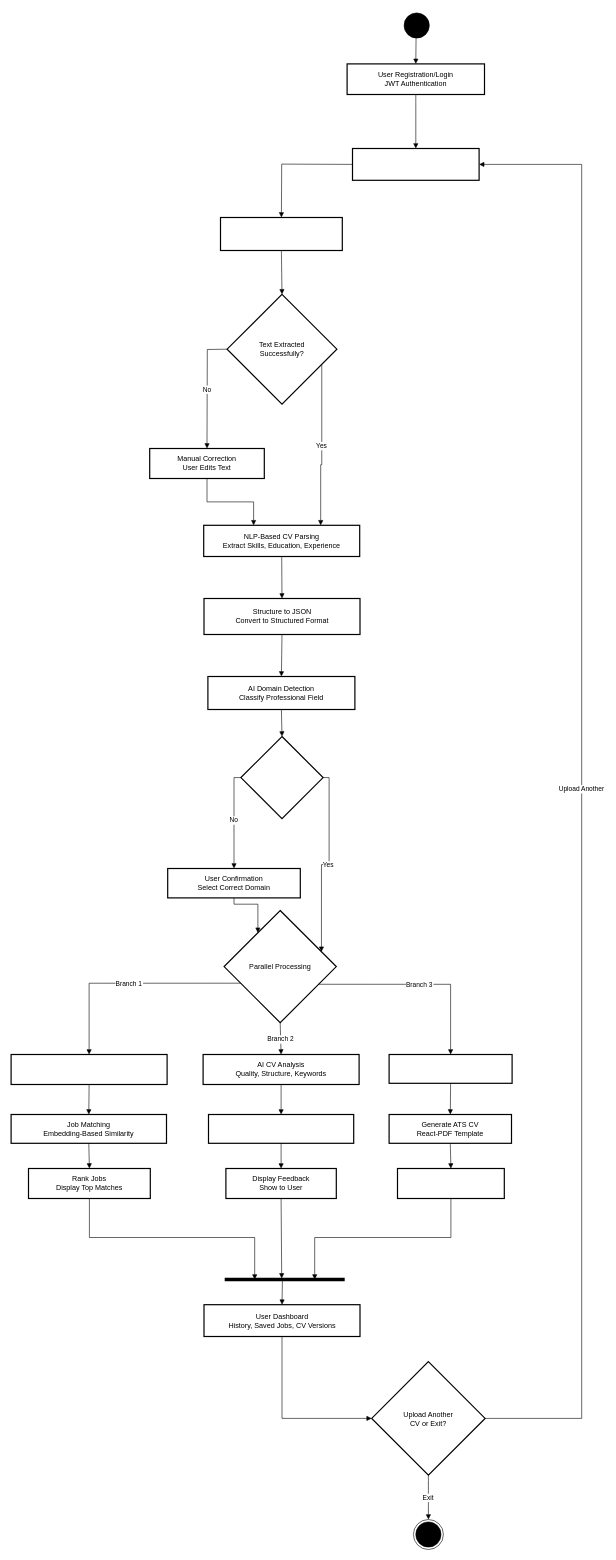
The diagram is 616 pixels wide and 1560 high, and some of its shapes have lost their labels. Here are the shapes that lost their labels. From the top down, the centre of each, then its label:
At point (415, 164): "Upload CV PDF or Image Format".
At point (281, 234): "OCR Text Extraction Tesseract OCR".
At point (281, 777): "Domain Correct?".
At point (88, 1069): "Job Fetching LinkedIn, RemoteOK, GitHub Jobs".
At point (450, 1069): "CV Enhancement Apply AI Suggestions".
At point (281, 1129): "Generate Feedback Improvement Suggestions".
At point (451, 1183): "Download CV Professional PDF".
